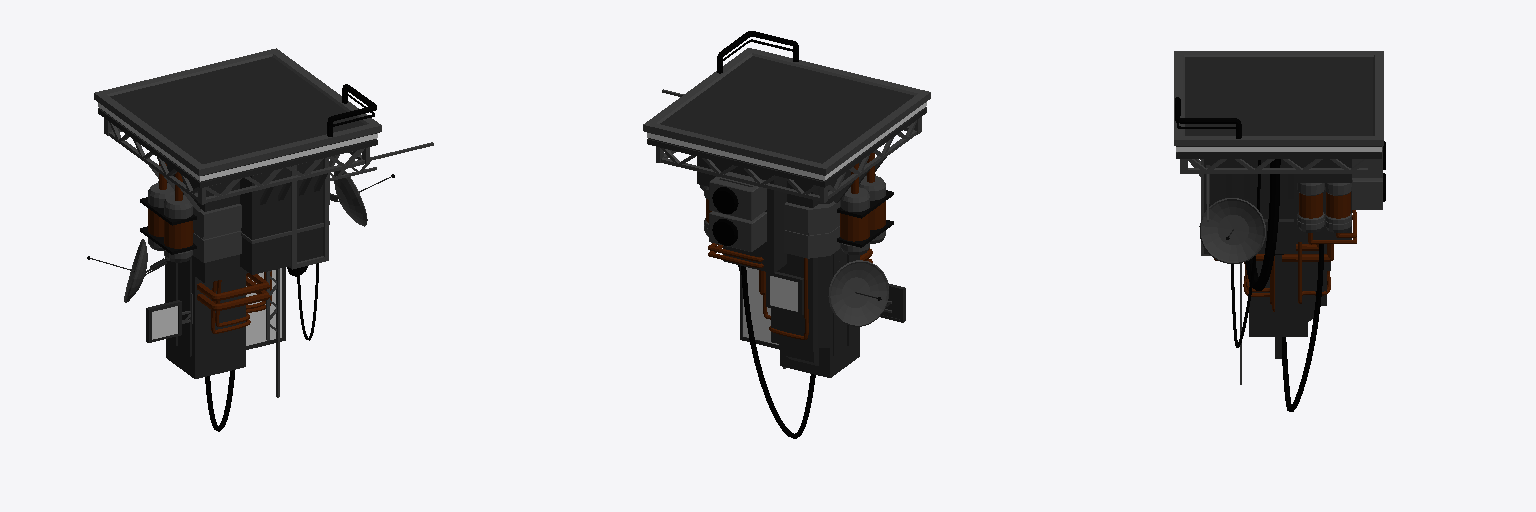
File: Platform_2x2.obj
The picture shows the model from 3 angles: view 1: azimuth 30°, elevation 25°; view 2: azimuth 150°, elevation 25°; view 3: azimuth 270°, elevation 25°; orthographic projection.
Parts seen in each view (by area): view 1: Platform_2x2_Cube; view 2: Platform_2x2_Cube; view 3: Platform_2x2_Cube.
Part boxes in pixels (left/top/right/bottom): Platform_2x2_Cube: left=87, top=48, right=433, bottom=431; Platform_2x2_Cube: left=643, top=31, right=930, bottom=438; Platform_2x2_Cube: left=1174, top=51, right=1385, bottom=411.
Bounding box in the file's own units: 3.31 × 3.83 × 2.16.